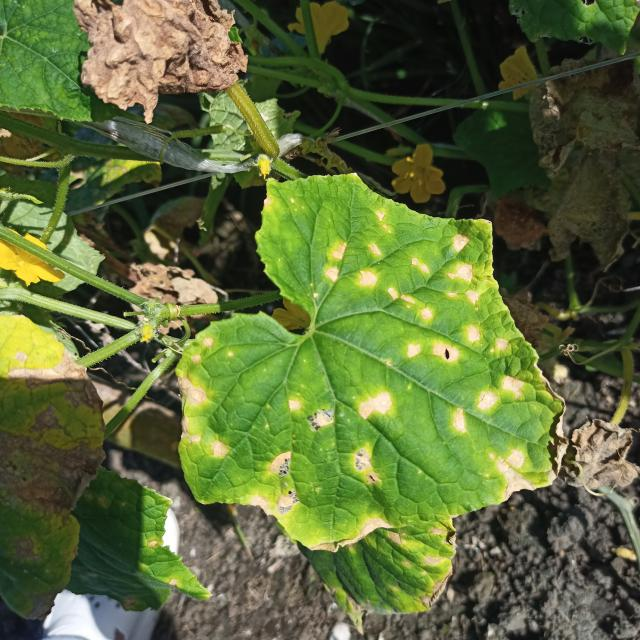disease_cucumber: (181, 198, 556, 546)
